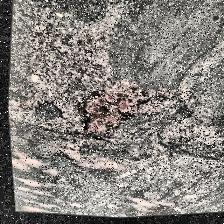pothole: (71, 72, 155, 150)
